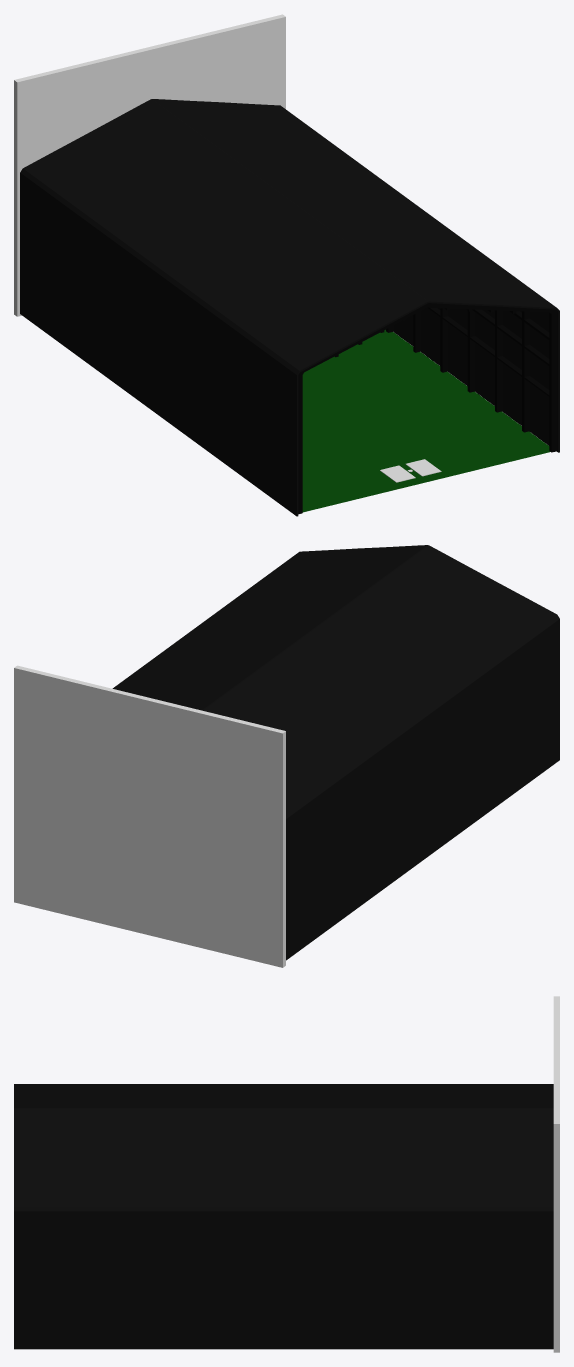
File: batting_ground1.fbx
3 renders of one model, top to bottom at view 1: azimuth 30°, elevation 25°; view 2: azimuth 150°, elevation 25°; view 3: azimuth 270°, elevation 25°, orthographic. The views are drawn at different scales.
Visible parts, largest first — view 1: Wall01, Plane003, Screen, Iron_Frame; view 2: Wall01, Screen; view 3: Wall01, Screen.
Boxes of the visible parts, x1,y1,x2,y2 form: Wall01: [20, 99, 559, 516]; Plane003: [302, 329, 550, 512]; Screen: [14, 14, 285, 316]; Iron_Frame: [298, 303, 557, 514]; Wall01: [112, 545, 559, 960]; Screen: [14, 665, 285, 967]; Wall01: [14, 1084, 553, 1349]; Screen: [553, 996, 559, 1352].
Bounding box in the file's own units: 30852 × 25710 × 55653.
